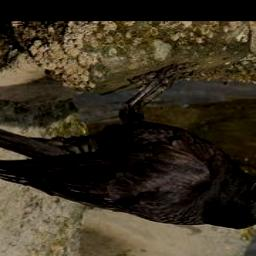Crow: (0, 63, 256, 232)
